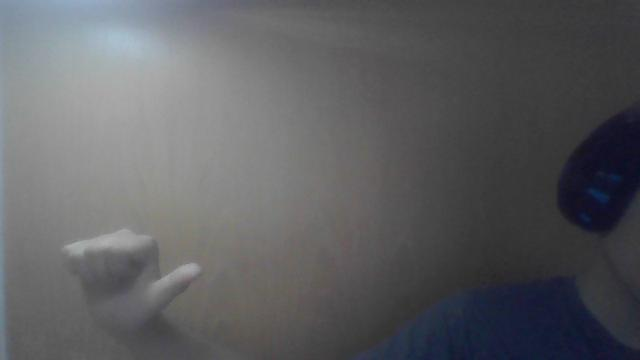left: (52, 222, 210, 334)
